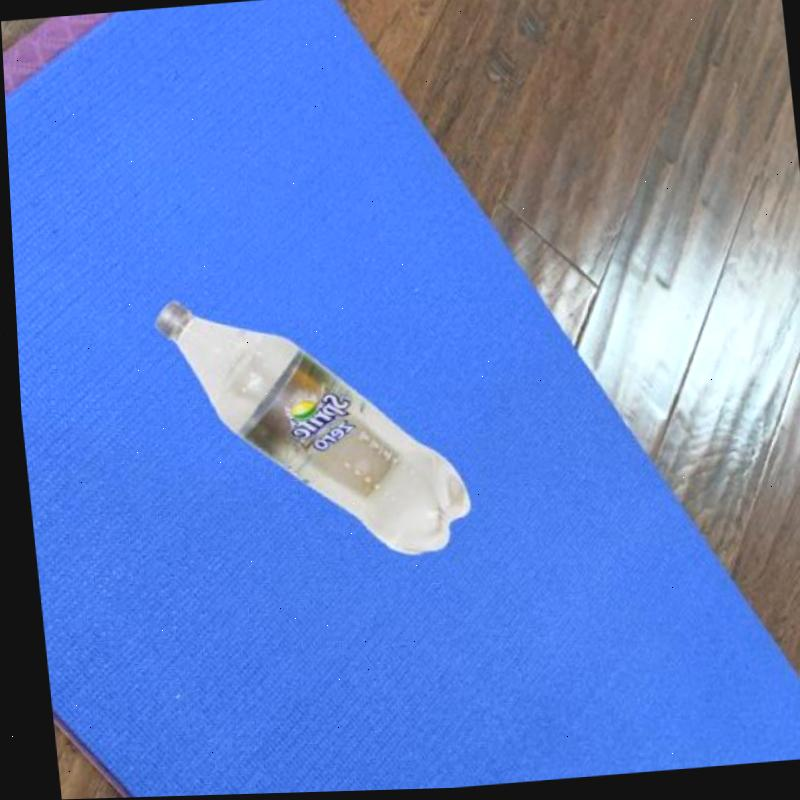botella: (145, 279, 471, 575)
